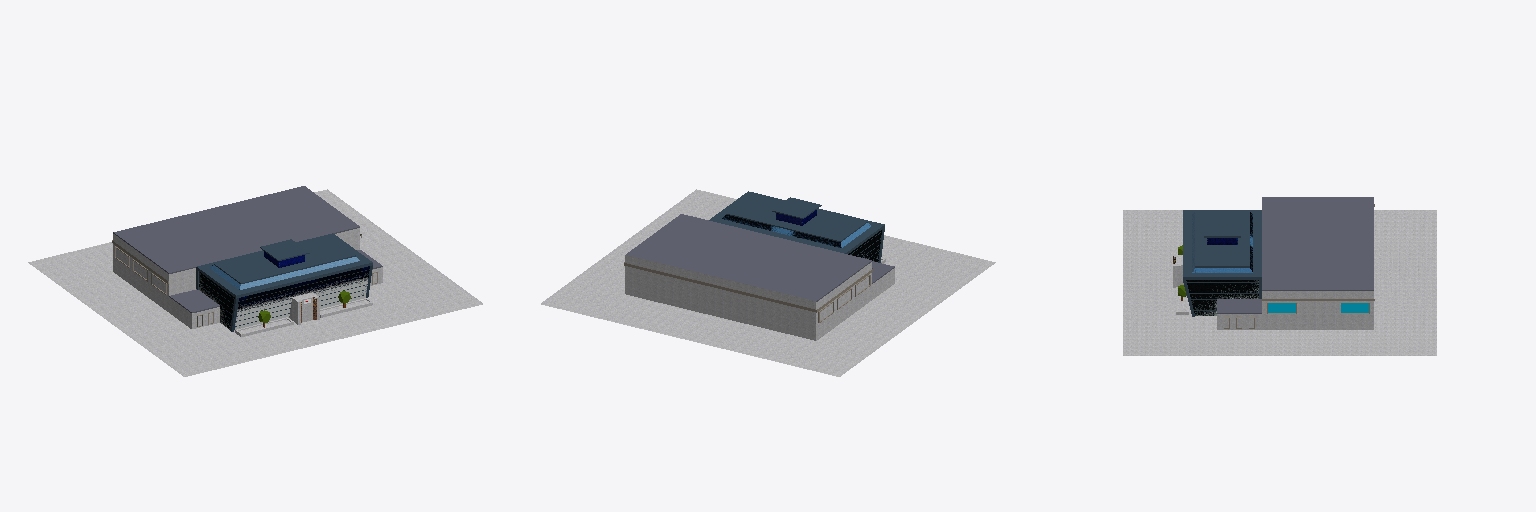
3 renders of one model, left to right at view 1: azimuth 30°, elevation 25°; view 2: azimuth 150°, elevation 25°; view 3: azimuth 270°, elevation 25°, orthographic.
Parts seen in each view (by area): view 1: Mesh1 Model; view 2: Mesh1 Model; view 3: Mesh1 Model.
Part boxes in pixels (x1,y1,x2,y2): Mesh1 Model: (28,186,482,376); Mesh1 Model: (541,189,995,376); Mesh1 Model: (1123,197,1436,355).
Size of the model in its own units: 55.15 by 9.6 by 50.
13 materials, 7 textured.